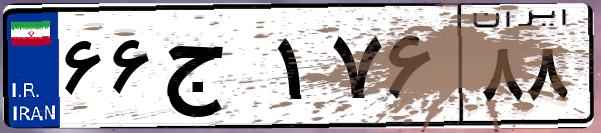1: (270, 28, 330, 110)
6: (385, 28, 445, 110), (57, 26, 110, 100), (110, 28, 158, 98)
7: (330, 28, 385, 110)
8: (475, 38, 525, 113), (525, 38, 570, 115)
ج: (158, 20, 270, 120)
